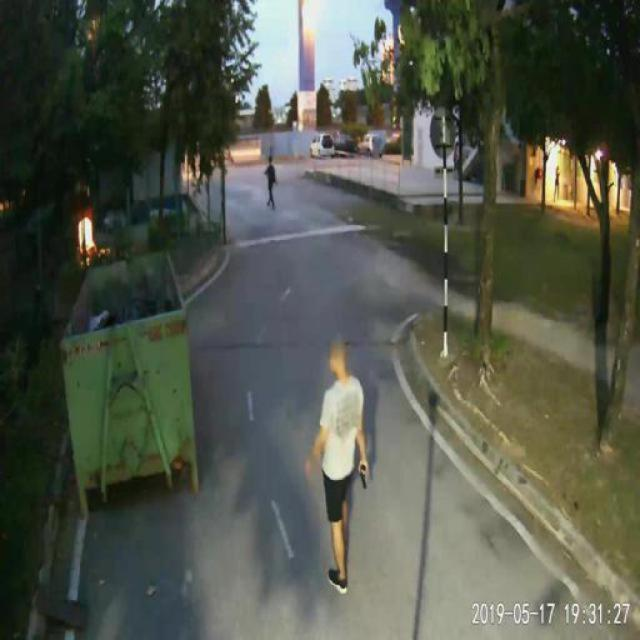pistol: (356, 456, 366, 490)
